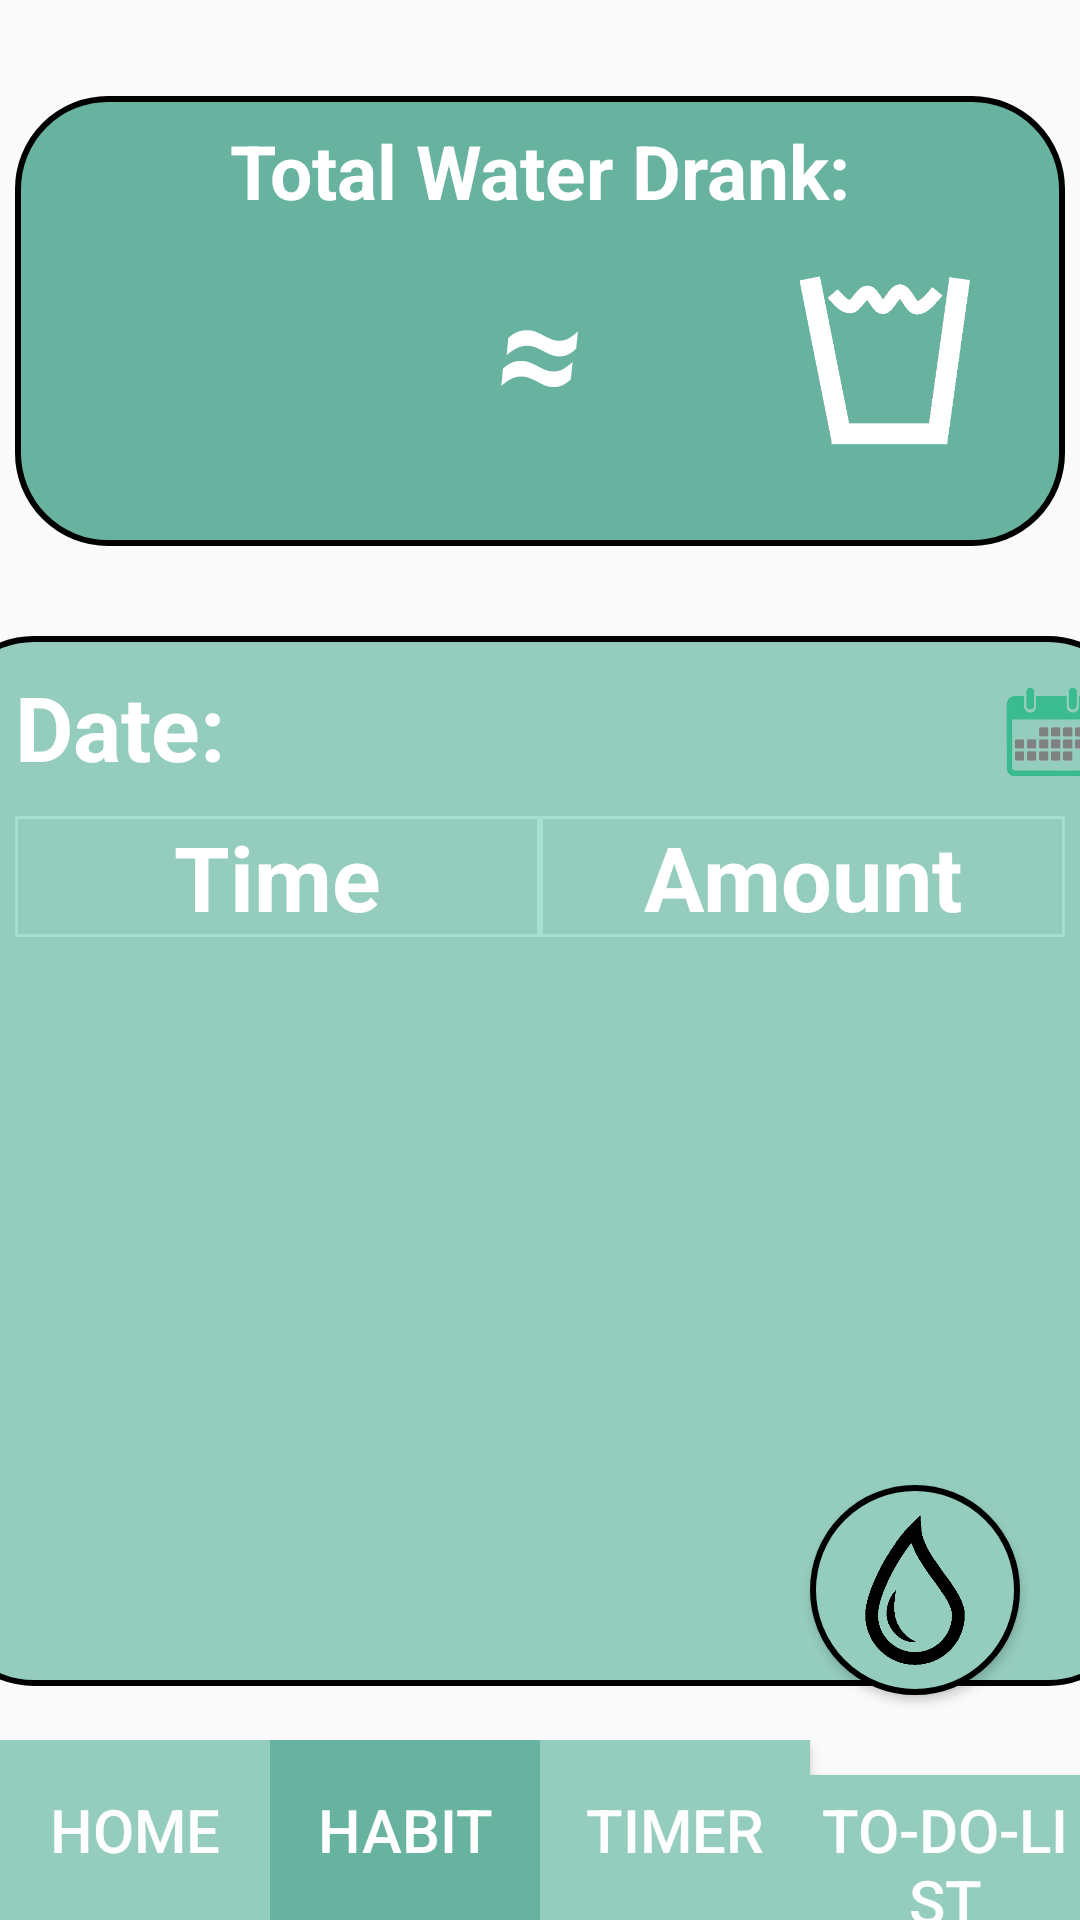

Locate icon controls on the screen. Image size 1080w x 1920h, boxes as [x1, y1, x2, y2].
cup: [800, 189, 970, 445]
